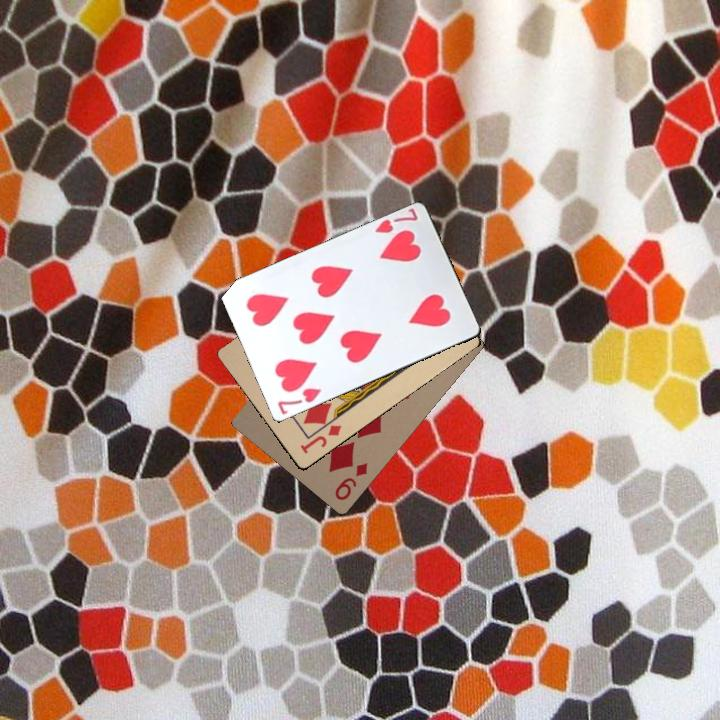7h: (273, 384, 324, 417), (371, 205, 420, 236)
9d: (331, 459, 370, 503)
Jd: (296, 421, 344, 456)
